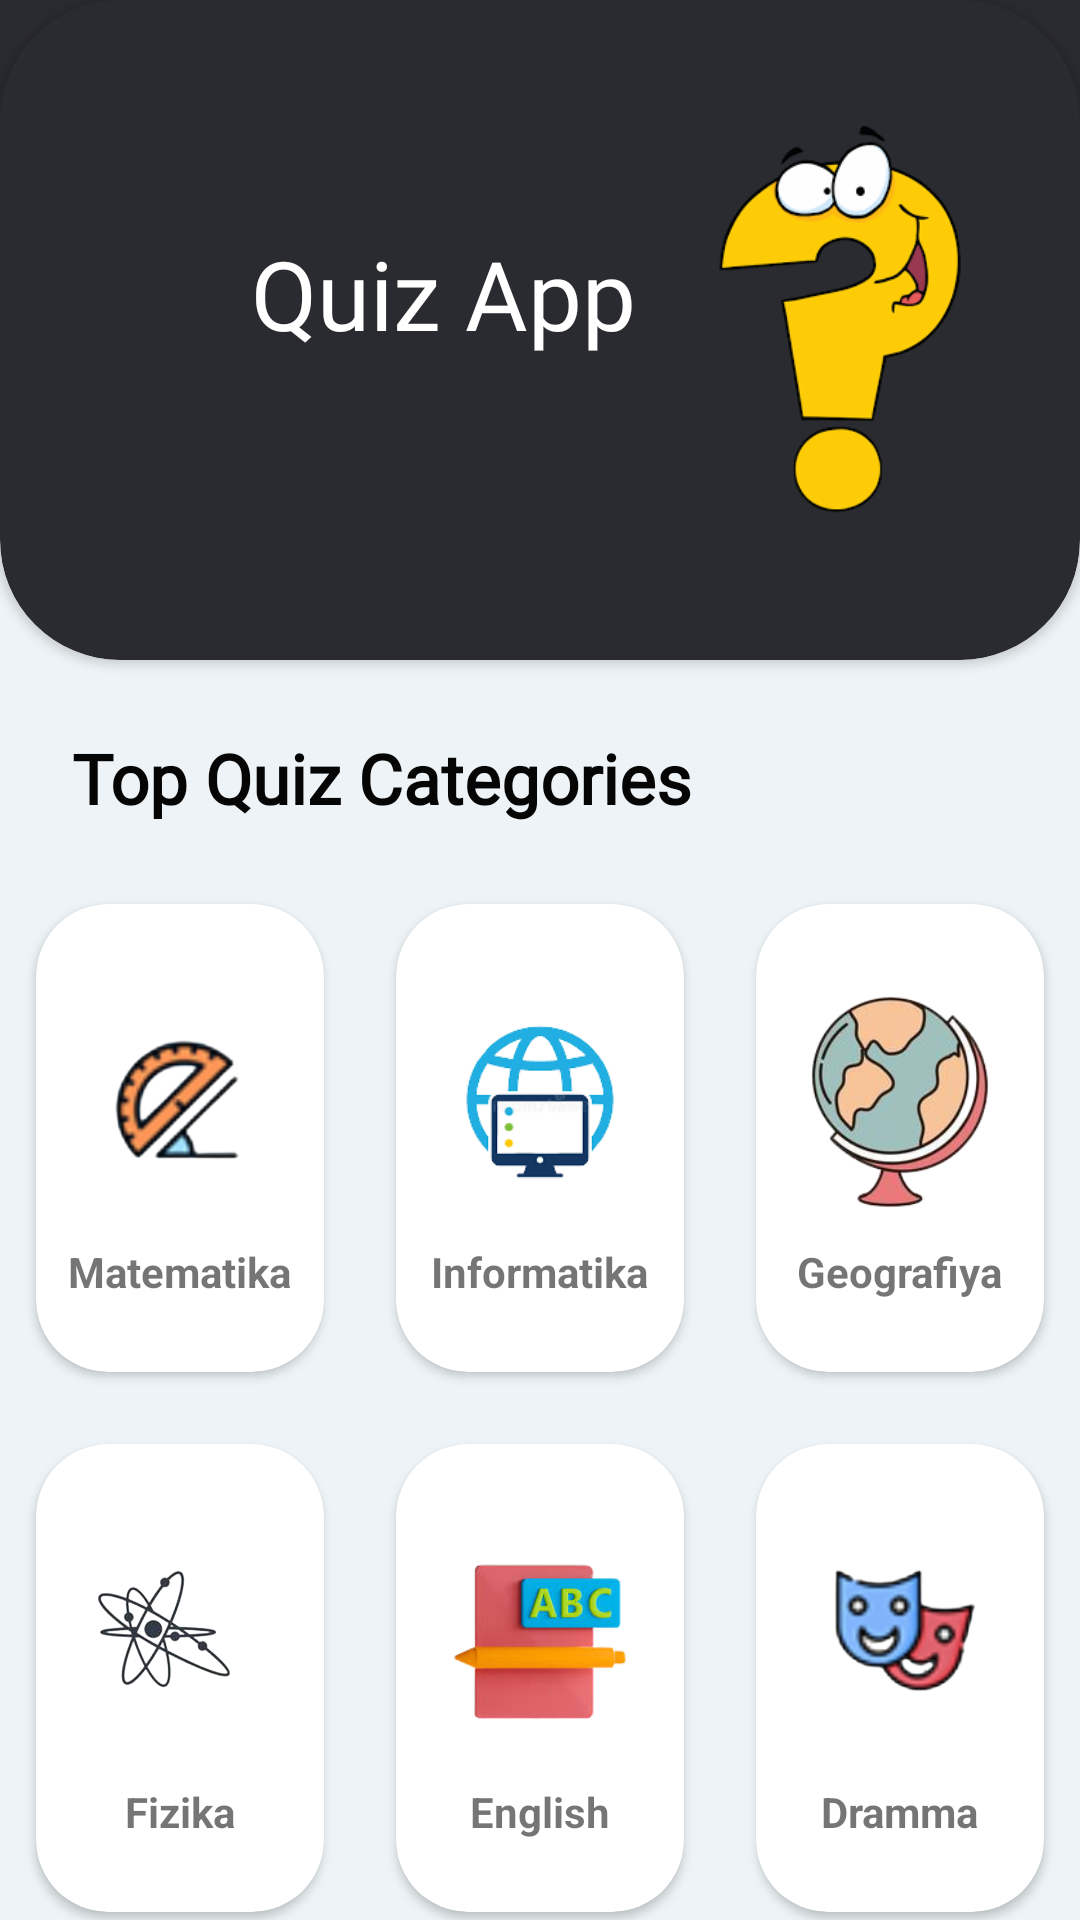

Icons on this 1080 × 1920 Android screen, each with its box as [x1,y1,x2,y2]:
engeshs: [454,1564,626,1719]
